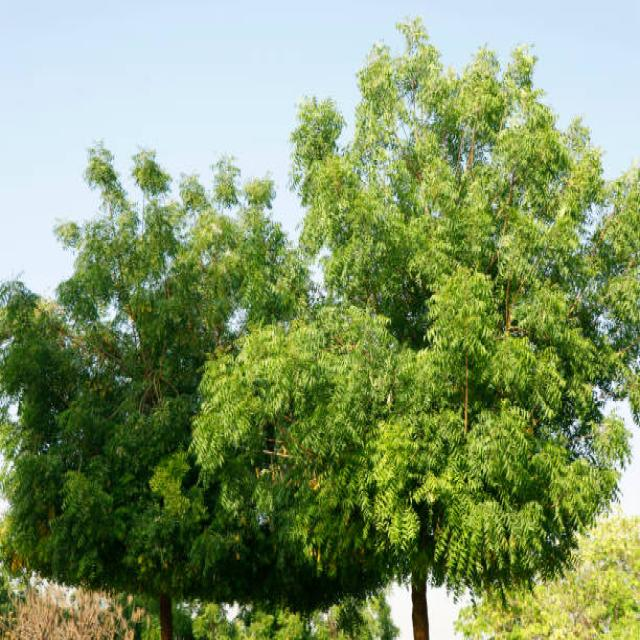Neem-Tree: (238, 244, 545, 532)
